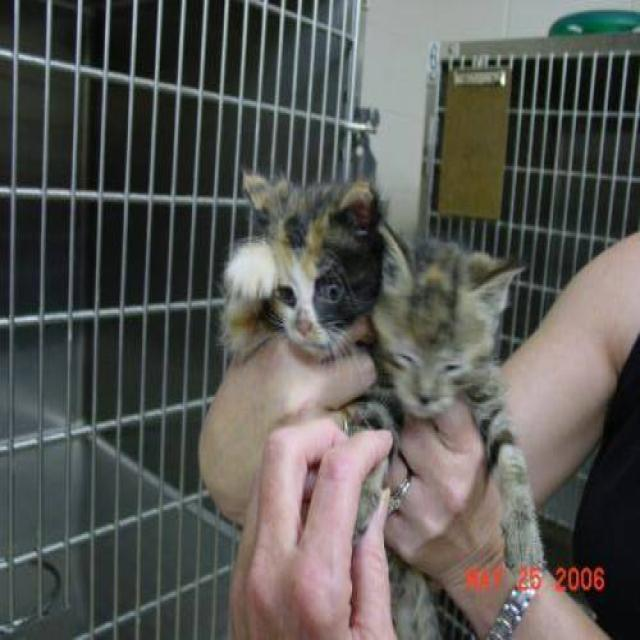cat: (360, 185, 580, 622), (184, 145, 391, 556)
